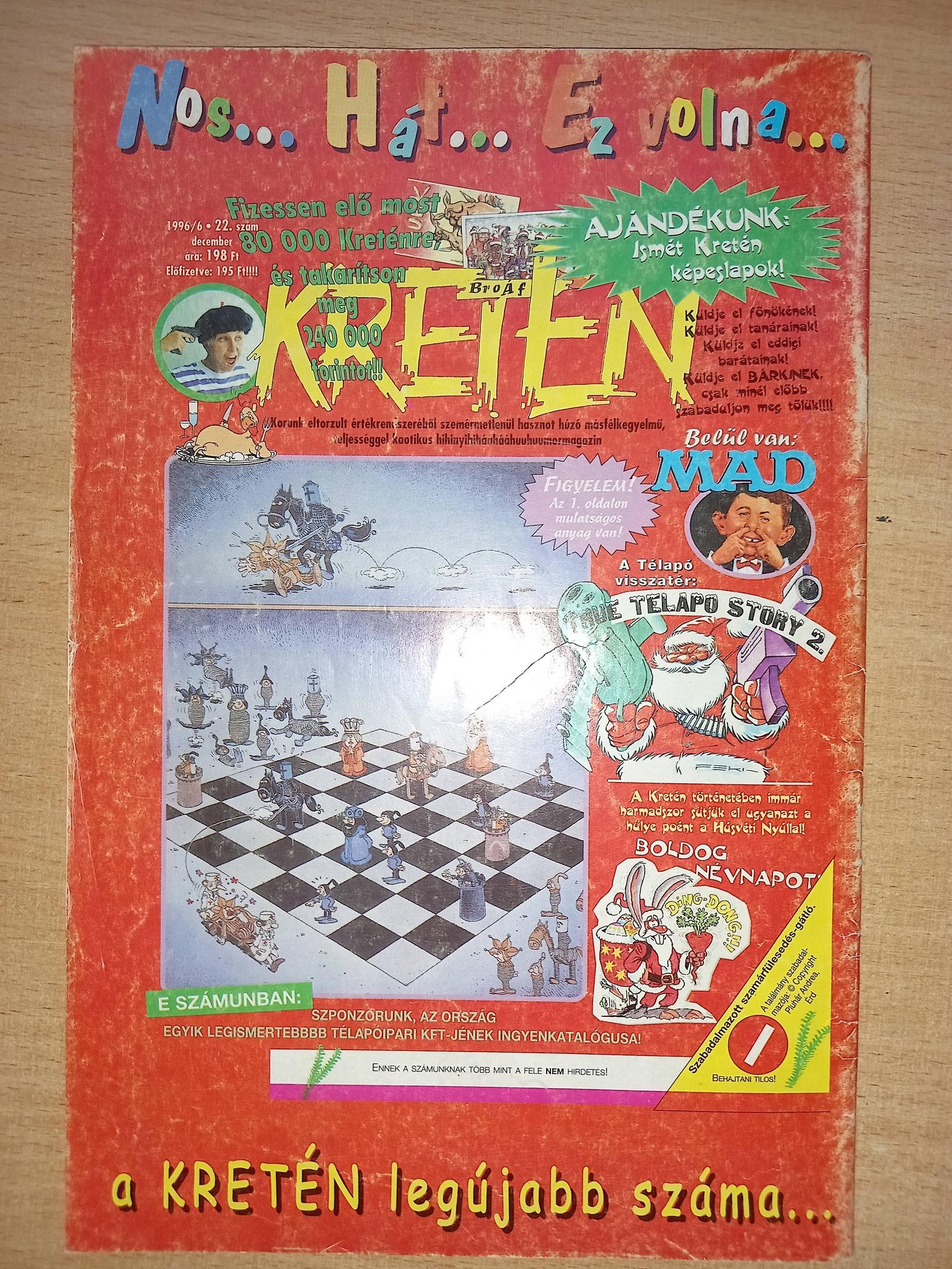comic: (66, 46, 869, 1260)
